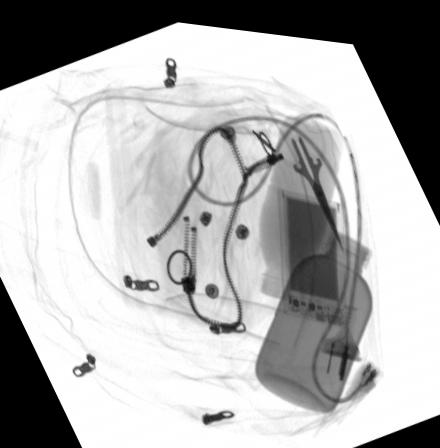Powerbank: (277, 181, 345, 317)
Scissors: (264, 102, 348, 249)
